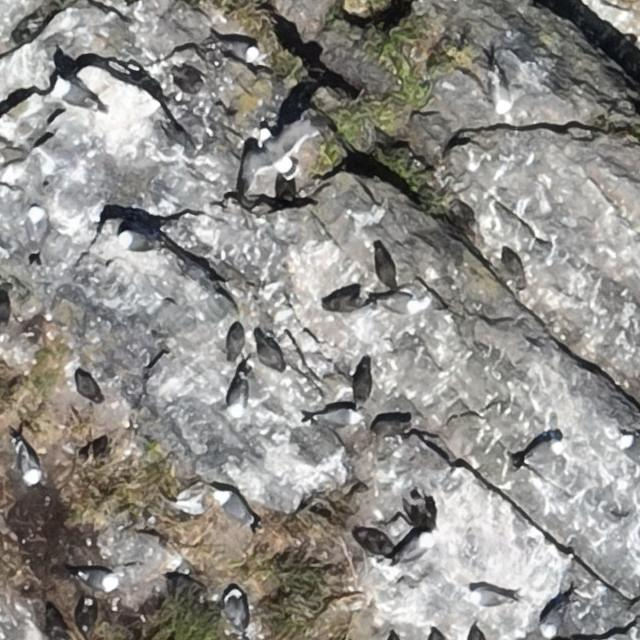F: (240, 119, 320, 178)
umineko: (213, 490, 259, 530), (391, 532, 434, 568), (538, 595, 571, 637), (226, 370, 252, 418), (520, 439, 564, 466), (57, 78, 94, 110), (490, 67, 512, 114), (24, 206, 46, 252), (116, 230, 162, 250), (19, 449, 42, 485), (224, 42, 260, 63), (79, 571, 116, 591), (224, 593, 244, 628), (320, 408, 358, 426), (383, 295, 417, 313), (471, 588, 502, 606), (618, 436, 638, 460), (80, 602, 94, 634), (430, 628, 448, 640)
